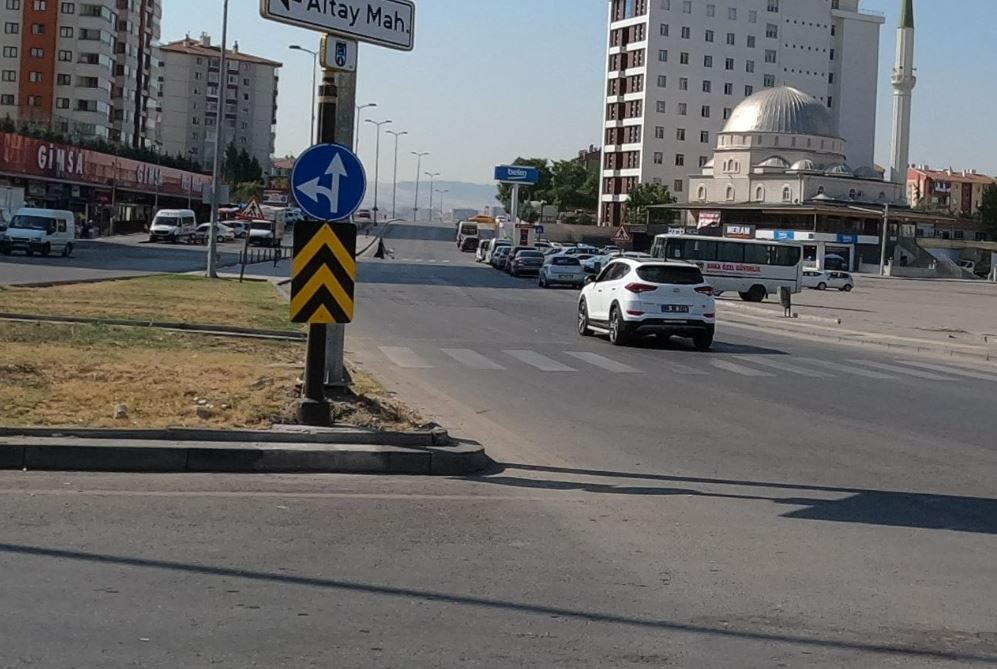ileri ve Sola Mecburi Don: (289, 139, 372, 225)
